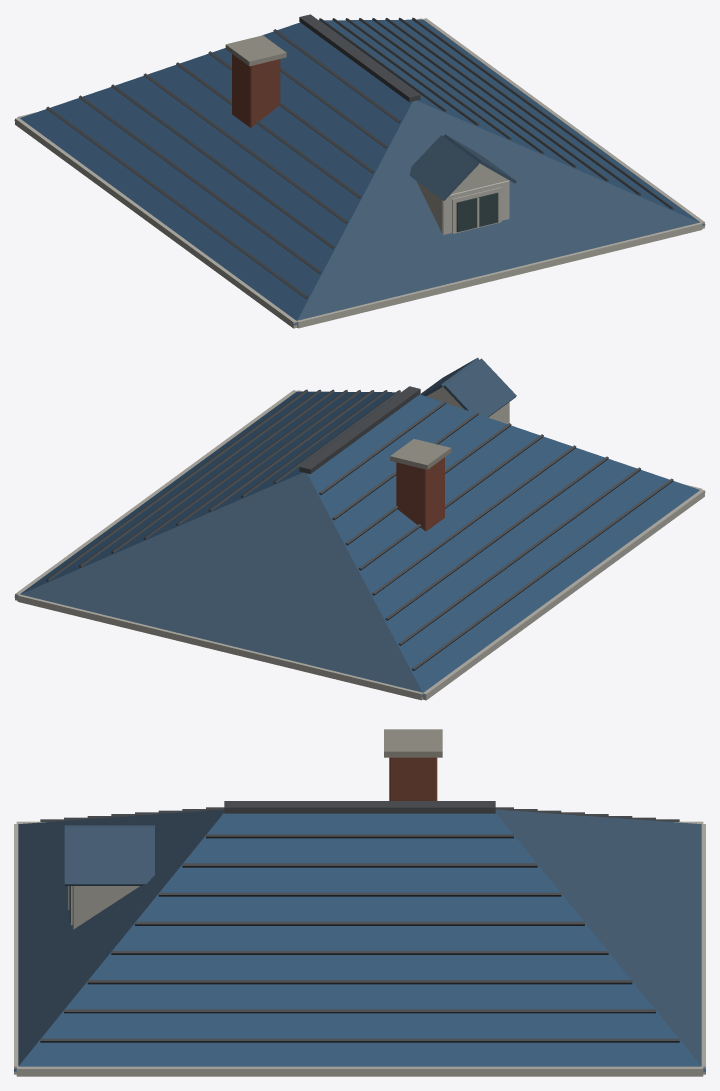
The model's file is house_roof_b.fbx.
The picture shows the model from 3 angles, top to bottom: view 1: azimuth 30°, elevation 25°; view 2: azimuth 150°, elevation 25°; view 3: azimuth 270°, elevation 25°; orthographic projection. The views are drawn at different scales.
Parts seen in each view (by area): view 1: house_roof_b; view 2: house_roof_b; view 3: house_roof_b.
Part boxes in pixels (<box>): house_roof_b: <box>14,14,705,328</box>; house_roof_b: <box>14,357,705,700</box>; house_roof_b: <box>14,729,705,1076</box>.
Bounding box in the file's own units: 11 × 3.38 × 13.
